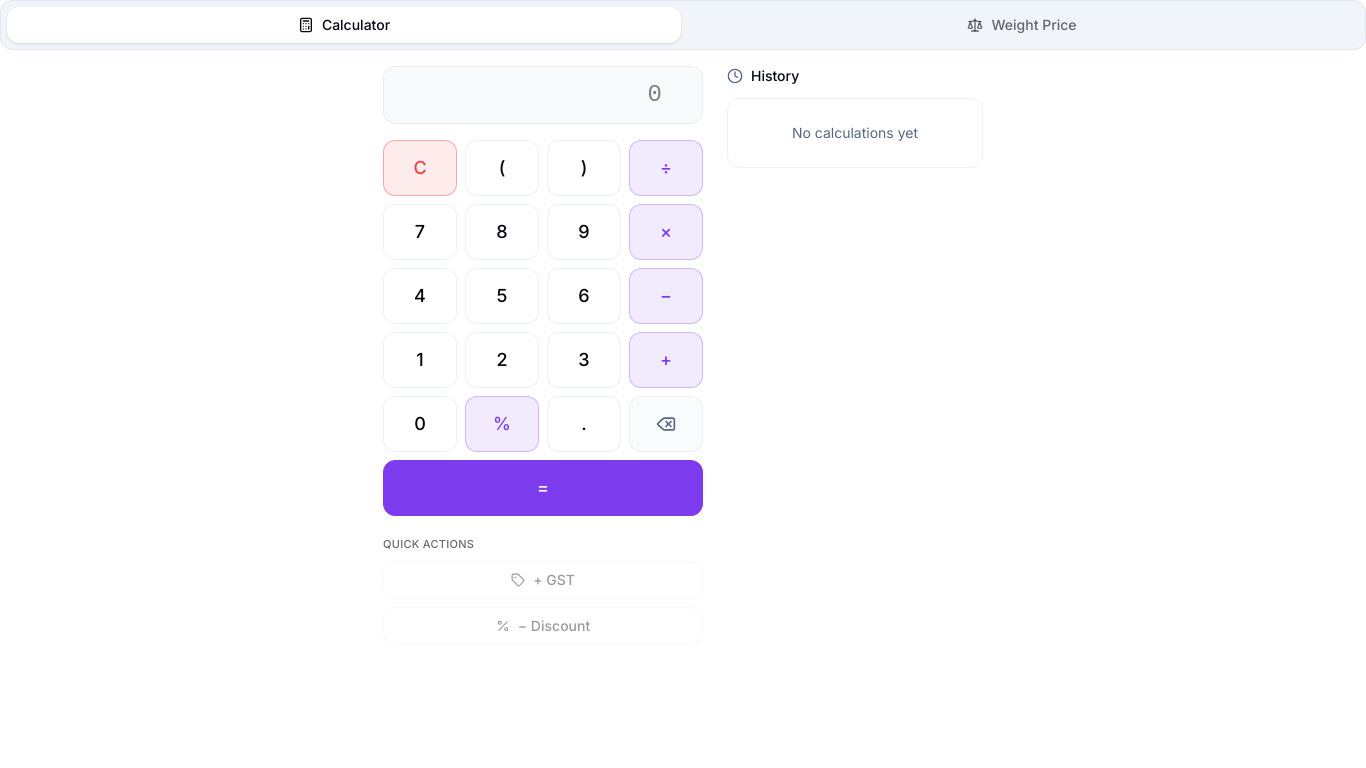
BasicCalculator › ⌫ button deletes the last character
The width and height of the screenshot is (1366, 768).
Click the button "4" at [420, 296], box [383,268,457,324]
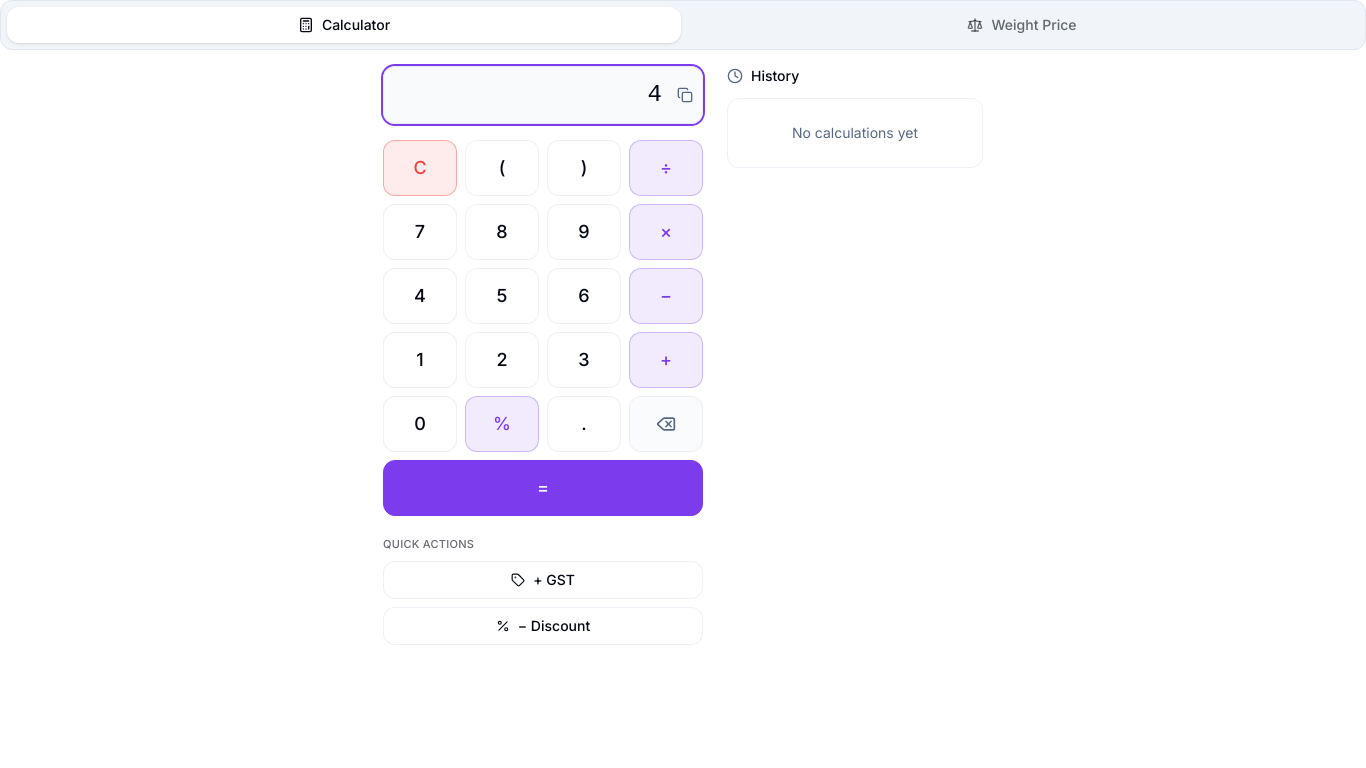
Click the button "2" at [502, 360], box [465,332,539,388]
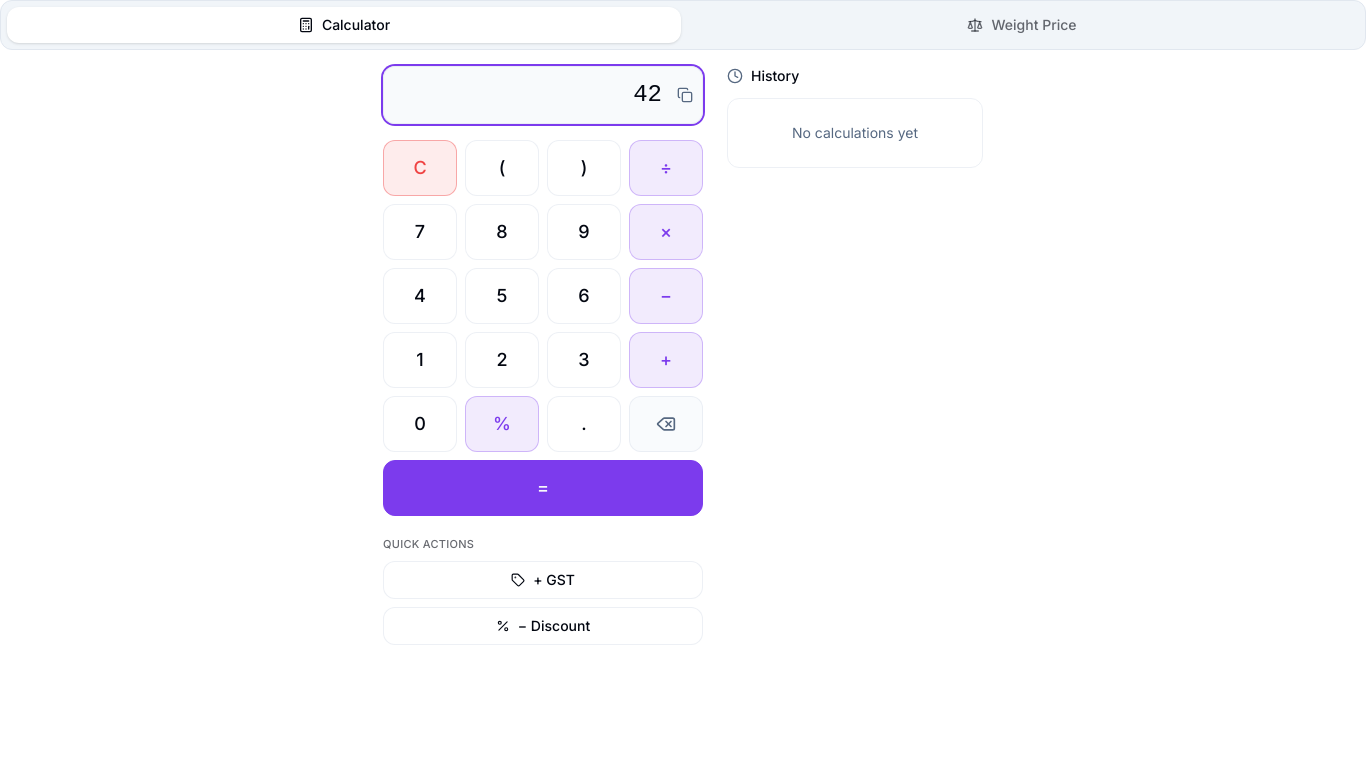
Click the button named "Backspace" at [666, 424], box [629,396,703,452]
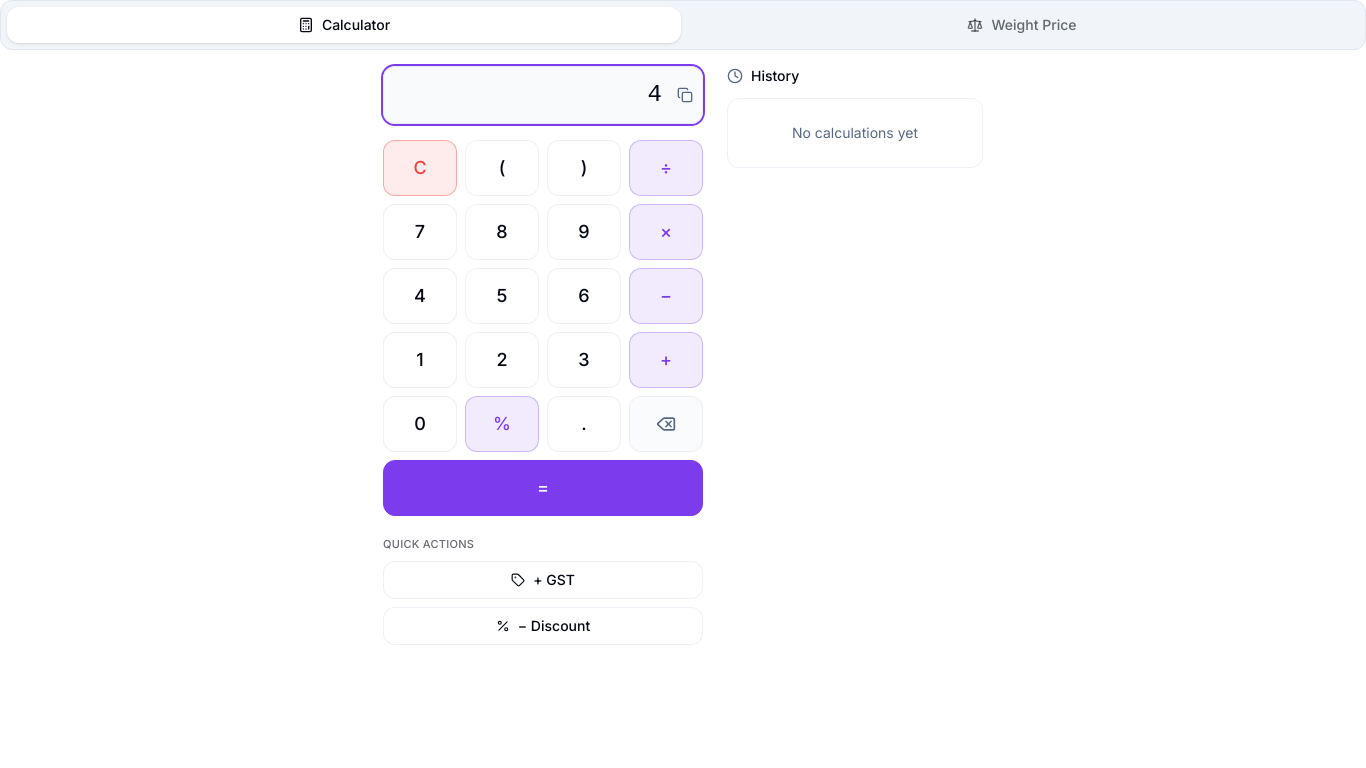
Expected: the field named "Expression" holds "4", [383,66,703,124]
